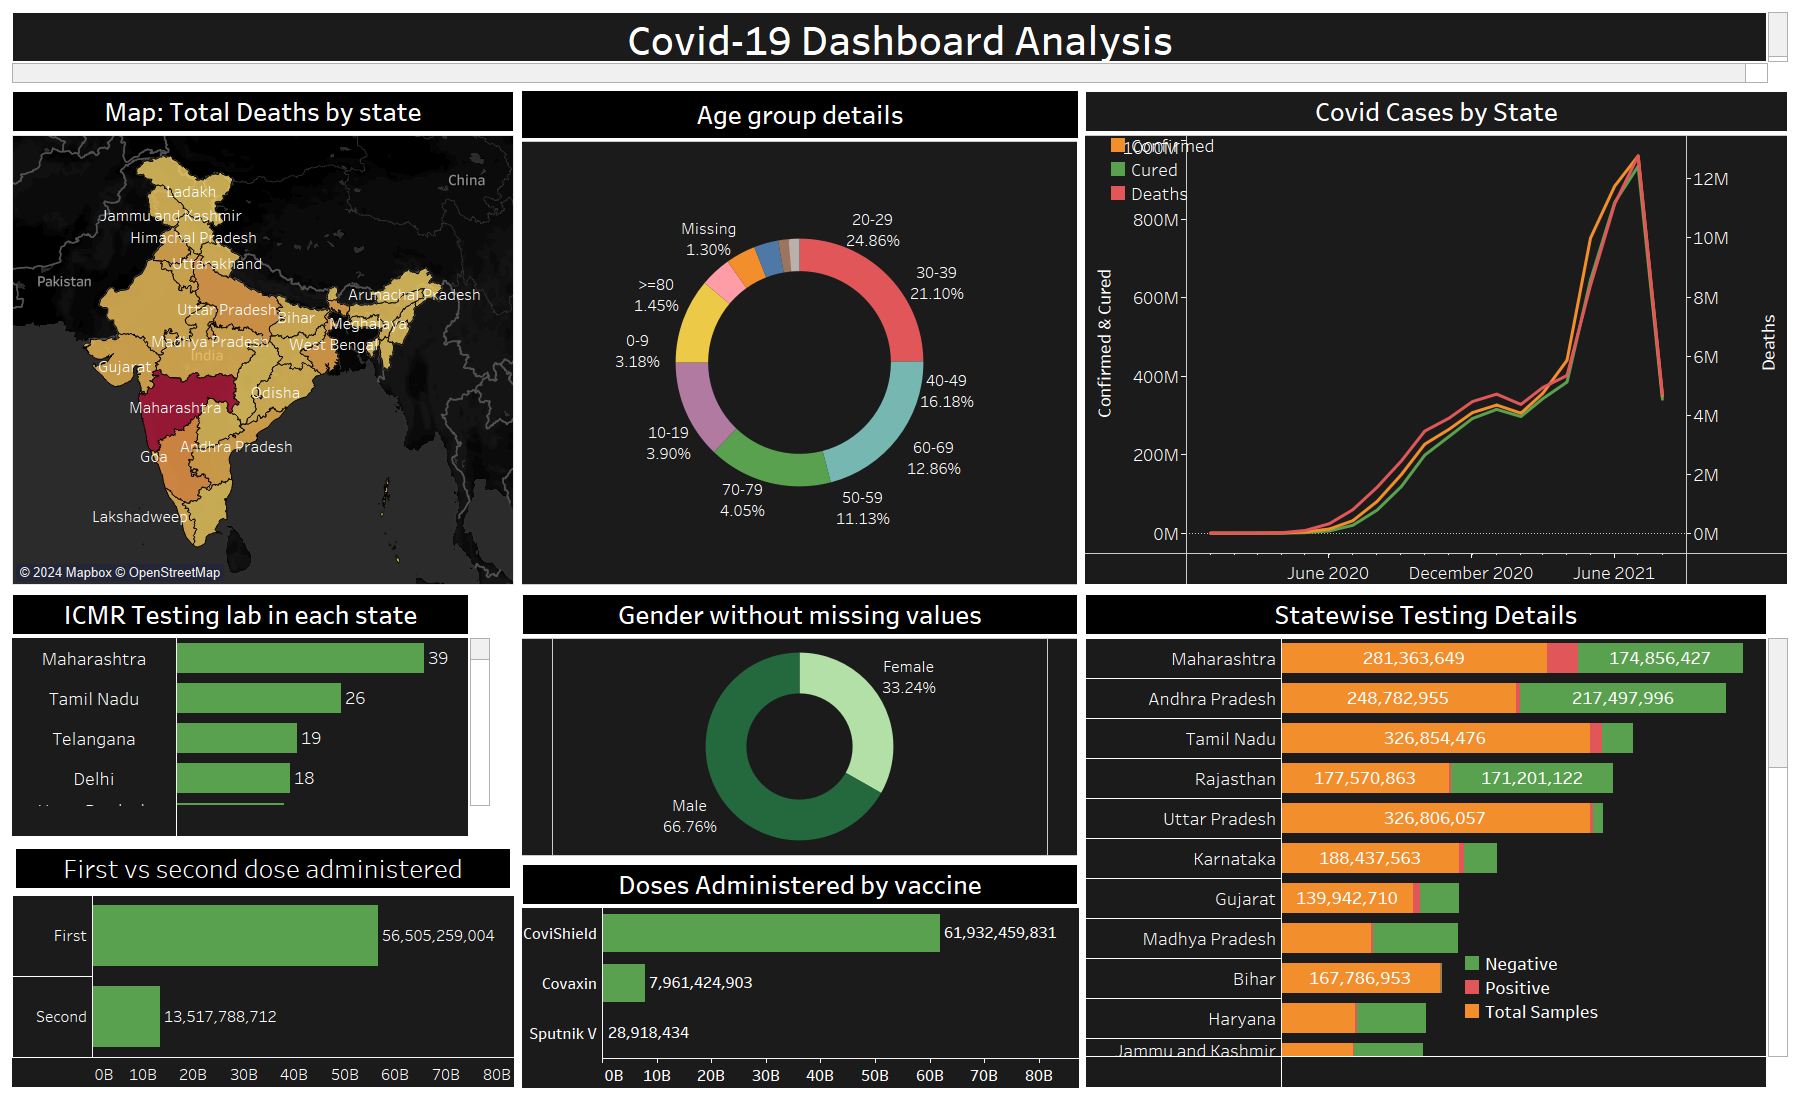

The dashboard page shown, as its layout file describes it:
{"tool":"tableau","page":{"name":"Dashboard 1","canvas":[1800,1100],"ordinal":0},"visuals":[{"type":"worksheet","title":"Title","mark":"Automatic","box":[8,8,1624,57]},{"type":"filter","title":"Doses administered by vaccine","param":"[federated.1li3as61iag00c13s7a7h0vgo3am].[:Measure Names]","box":[1632,8,160,588]},{"type":"worksheet","title":"Map: Total deaths by states","mark":"Automatic","box":[8,65,464,513.5]},{"type":"worksheet","title":"Age group details","mark":"Pie","rows":["Calculation_1563030563888451585","Calculation_1563030563888668675"],"box":[472,65,513,514]},{"type":"worksheet","title":"Covid Cases by State","mark":"Automatic","rows":["Deaths"],"cols":["Date"],"box":[985,65,647,513.5]},{"type":"legend","title":"Covid Cases by State","param":"[federated.121djcp0lh06b21476n2n1db23kt].[:Measure Names]","box":[1106,133,140,72]},{"type":"worksheet","title":"ICMR Testing lab in each state","mark":"Automatic","rows":["state"],"cols":["lab"],"box":[8,578.5,464,256.7]},{"type":"worksheet","title":"Statewise Testing Details","mark":"Automatic","rows":["State"],"box":[985,578.5,647,513.5]},{"type":"worksheet","title":"Gender without missing values","mark":"Pie","rows":["Calculation_1563030563901698053","Calculation_1563030563901698053"],"box":[472,579,513,276]},{"type":"worksheet","title":"First vs second dose administered","mark":"Automatic","box":[8,835.3,464,256.8]},{"type":"worksheet","title":"Doses administered by vaccine","mark":"Automatic","box":[472,855,513,237]},{"type":"legend","title":"Statewise Testing Details","param":"[federated.1oo3icv16tpif2170bbqa0d1qnev].[:Measure Names]","box":[1460,951,143,96]}]}

Visuals, with their boxes in screenshot pixels (x1, y1, x2, y2), scaled from the page's 1800x1100 canvas onto the 1800x1100 screenshot:
"Title" worksheet: <bbox>8, 8, 1632, 65</bbox>
"Doses administered by vaccine" filter: <bbox>1632, 8, 1792, 596</bbox>
"Map: Total deaths by states" worksheet: <bbox>8, 65, 472, 578</bbox>
"Age group details" worksheet (Pie marks): <bbox>472, 65, 985, 579</bbox>
"Covid Cases by State" worksheet: <bbox>985, 65, 1632, 578</bbox>
"Covid Cases by State" legend: <bbox>1106, 133, 1246, 205</bbox>
"ICMR Testing lab in each state" worksheet: <bbox>8, 578, 472, 835</bbox>
"Statewise Testing Details" worksheet: <bbox>985, 578, 1632, 1092</bbox>
"Gender without missing values" worksheet (Pie marks): <bbox>472, 579, 985, 855</bbox>
"First vs second dose administered" worksheet: <bbox>8, 835, 472, 1092</bbox>
"Doses administered by vaccine" worksheet: <bbox>472, 855, 985, 1092</bbox>
"Statewise Testing Details" legend: <bbox>1460, 951, 1603, 1047</bbox>
